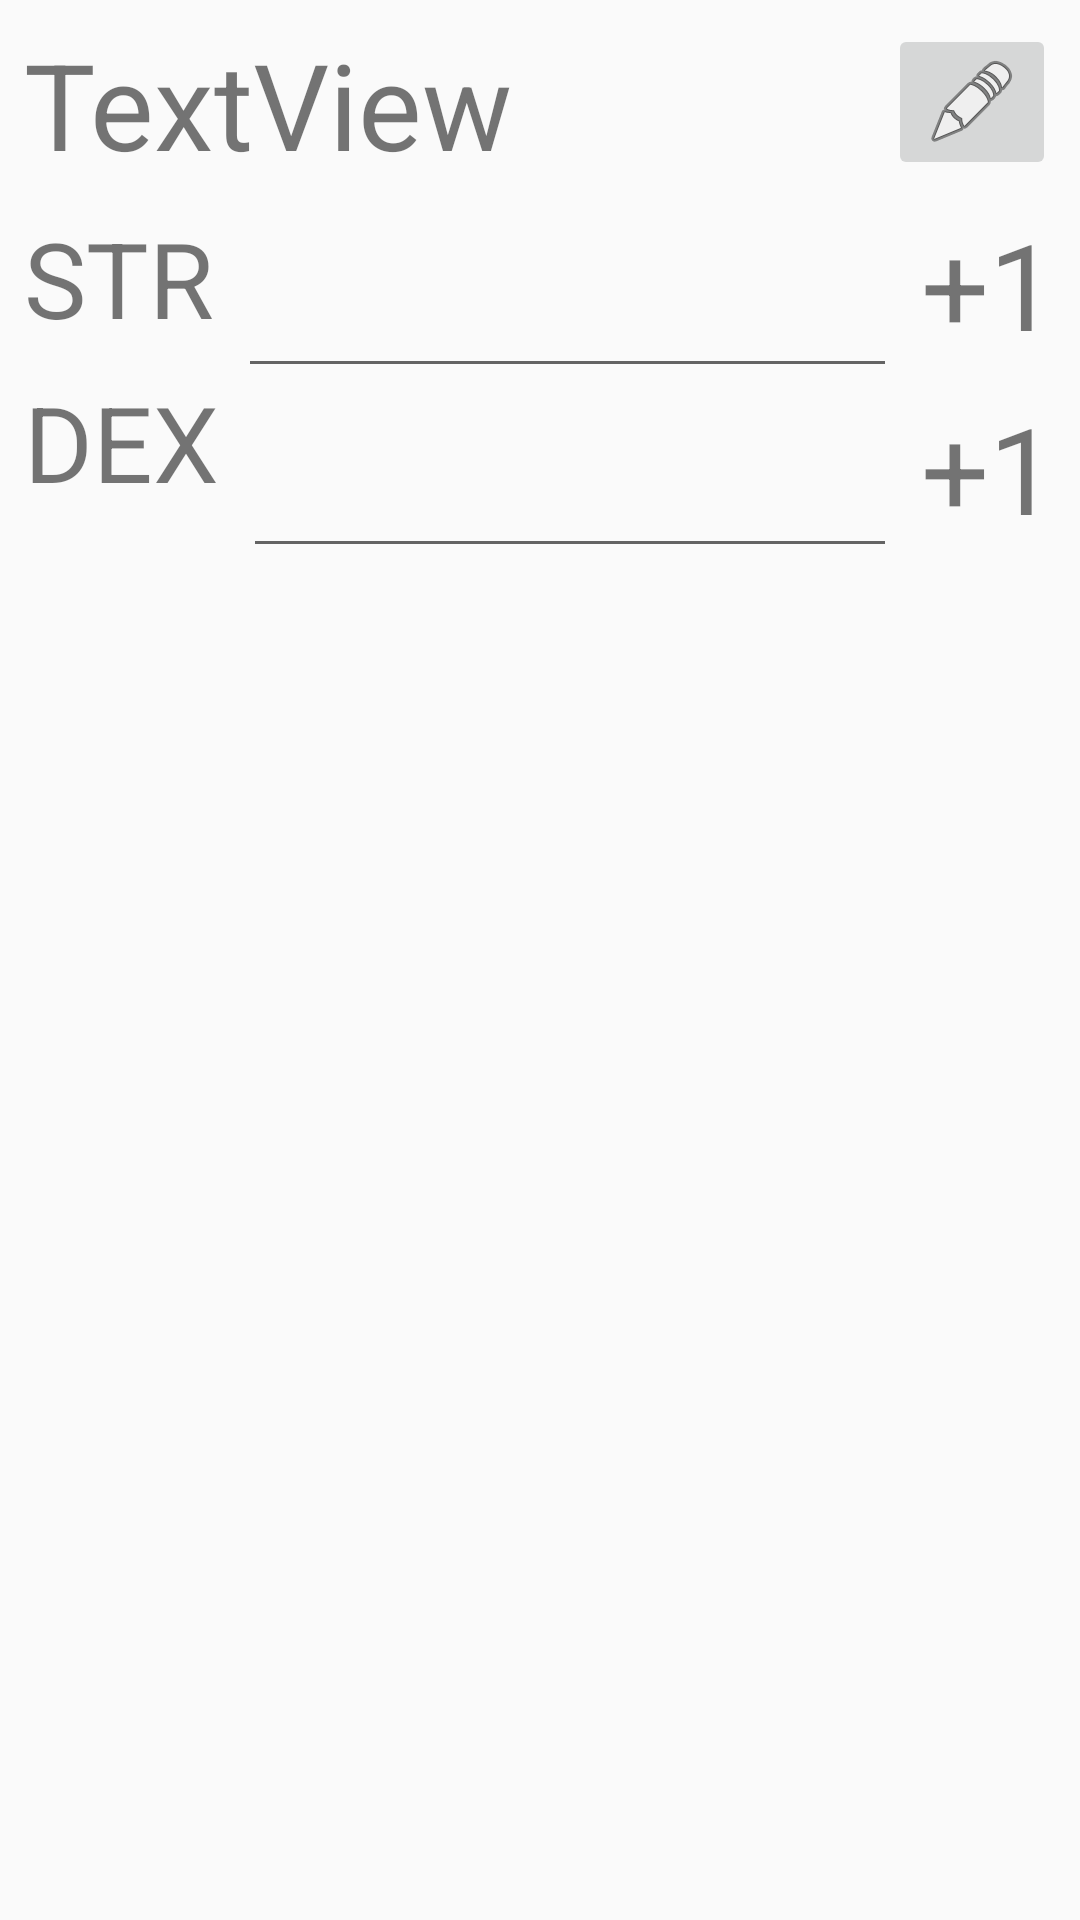

Screen size 1080w x 1920h. Icon name, then its box in pixels as (x1,y1,x2,y2):
edit: (900,42,1044,162)
